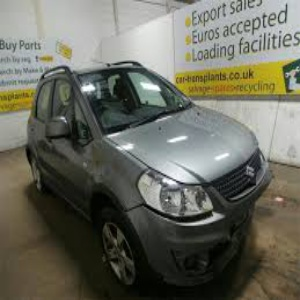bumper: (153, 216, 242, 286)
